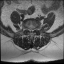CCS_normal: (30, 28, 32, 36)
LFS_severe_stenosis: (33, 27, 35, 32)
LLS_normal: (32, 27, 33, 34)
RFS_stenosis: (27, 26, 29, 32)
RLS_normal: (29, 27, 30, 35)
